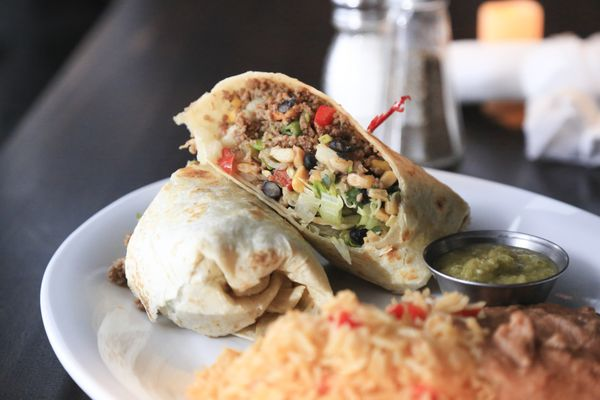soup: (173, 71, 473, 292), (122, 160, 335, 336)
sushi: (422, 230, 570, 306)
